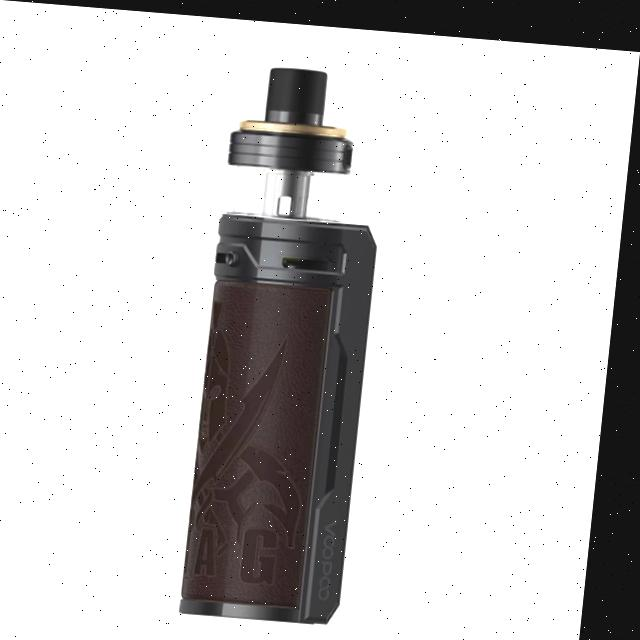vape: (190, 58, 396, 621)
